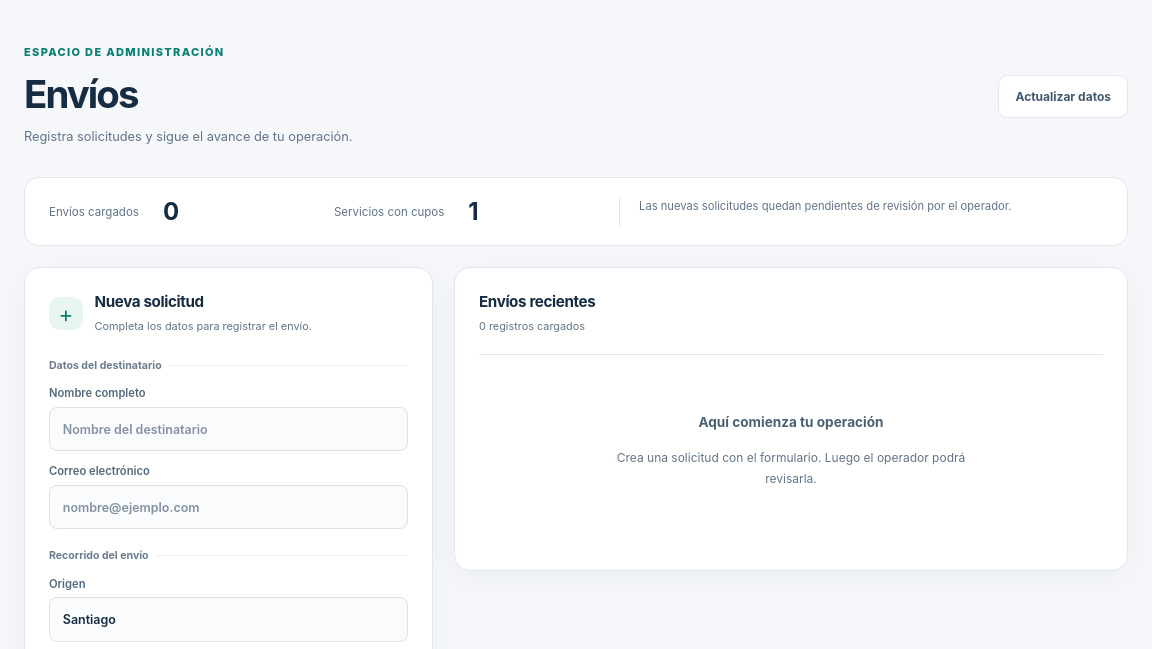
Disponibilidad de la operación administrativa › no muestra cero registros como resultado de una consulta fallida de envíos
The width and height of the screenshot is (1152, 649).
Click the button "Actualizar datos": (1063, 96) [998,75,1128,118]
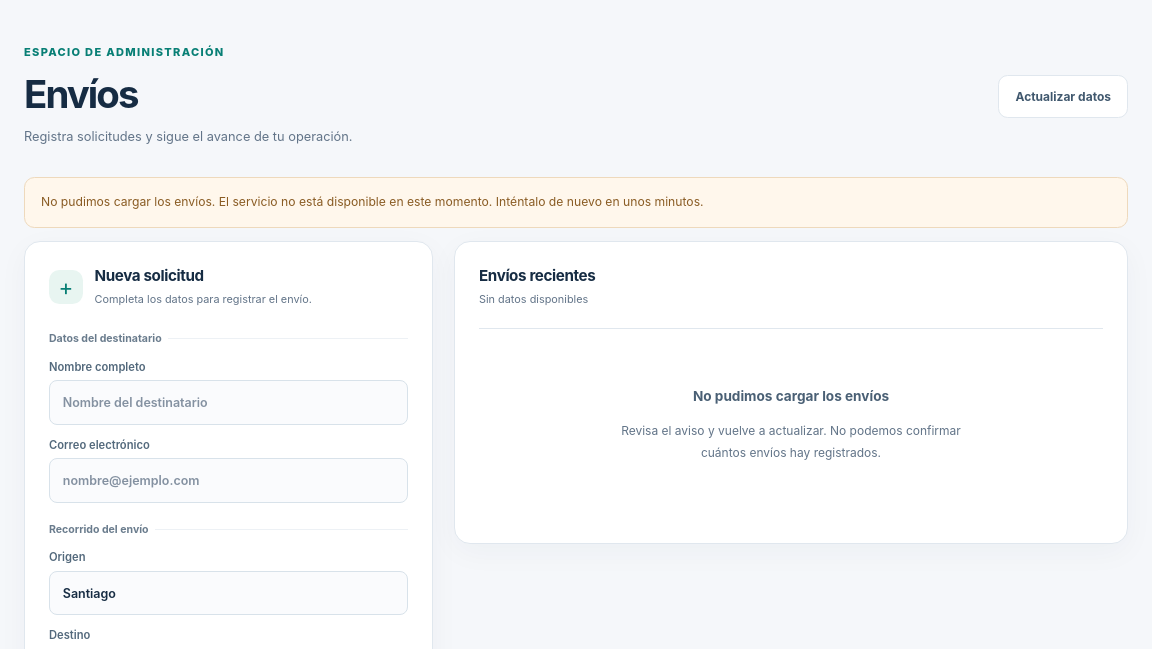
Result: the element with class "shipments-card" shows "Sin datos disponibles" at [479,292,588,306]
Result: the text with class "shipments-card" no longer shows "0 registros cargados"
